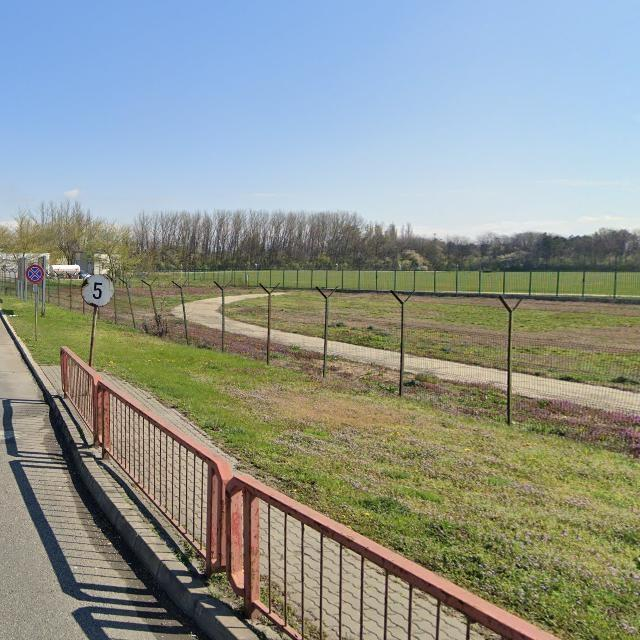forb_waiting: (27, 265, 44, 282)
